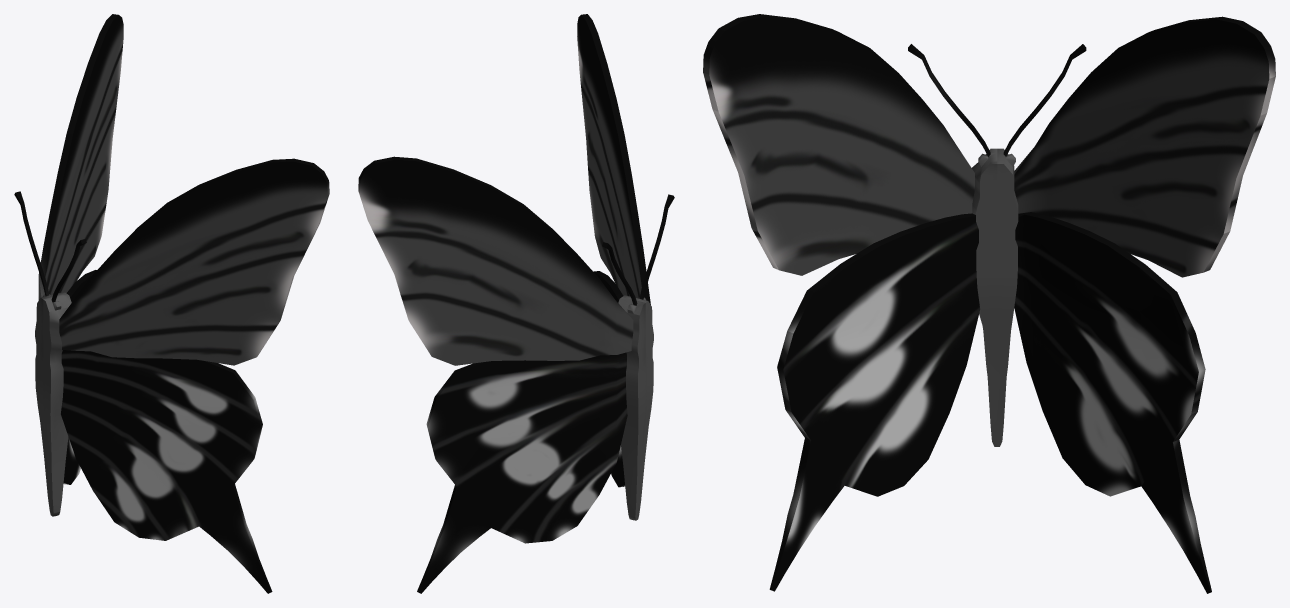
File: BUTTERFLY2.fbx
3 views of the same model, side by side, from view 1: azimuth 30°, elevation 25°; view 2: azimuth 150°, elevation 25°; view 3: azimuth 270°, elevation 25° (orthographic). The views are drawn at different scales.
Visible parts, largest first — view 1: pCube1; view 2: pCube1; view 3: pCube1.
Boxes of the visible parts, x1,y1,x2,y2 form: pCube1: (14,14,329,593); pCube1: (358,14,674,593); pCube1: (703,14,1275,593).
Size of the model in its own units: 5.32 by 12.18 by 10.9.
